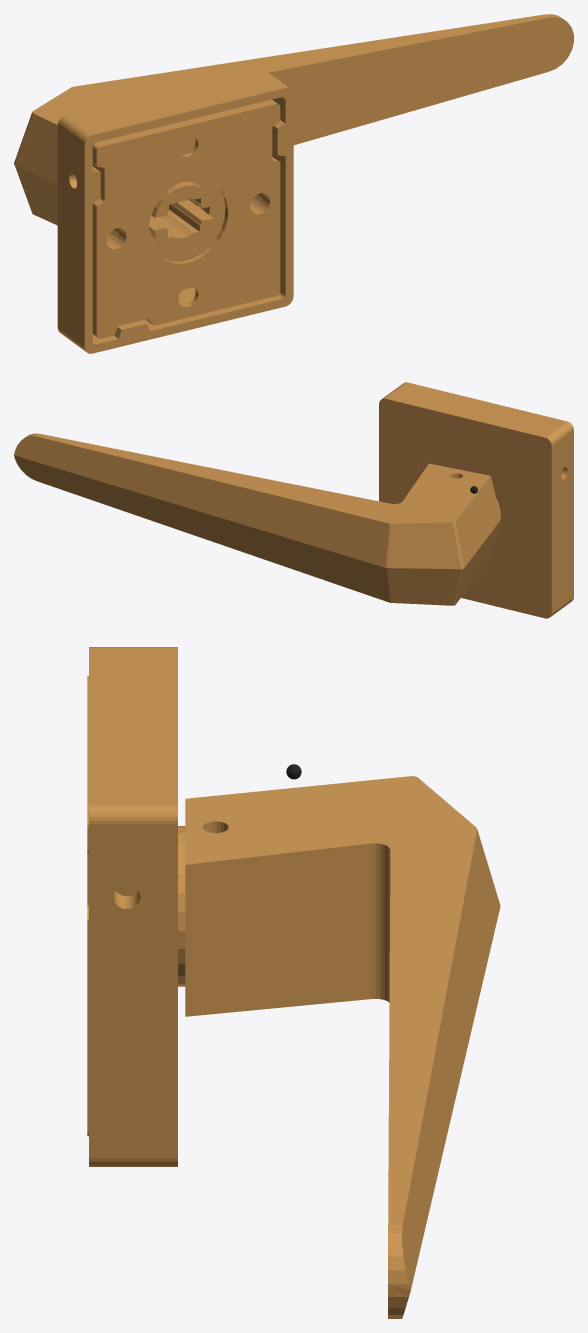
Rendered from jupiter pvd gold.glb.
3 renders of one model, top to bottom at view 1: azimuth 30°, elevation 25°; view 2: azimuth 150°, elevation 25°; view 3: azimuth 270°, elevation 25°, orthographic. The views are drawn at different scales.
Visible parts, largest first — view 1: JUPITER; view 2: JUPITER; view 3: JUPITER.
Boxes of the visible parts, <box> form: JUPITER: <box>14,14,573,353</box>; JUPITER: <box>14,382,573,618</box>; JUPITER: <box>87,647,500,1318</box>.
Bounding box in the file's own units: 0.9384 × 0.338 × 0.35.
